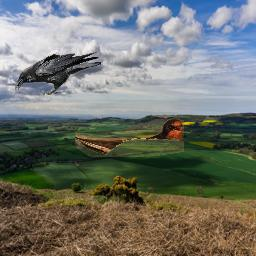Crow: (15, 52, 103, 95)
Swallow: (75, 118, 184, 157)
